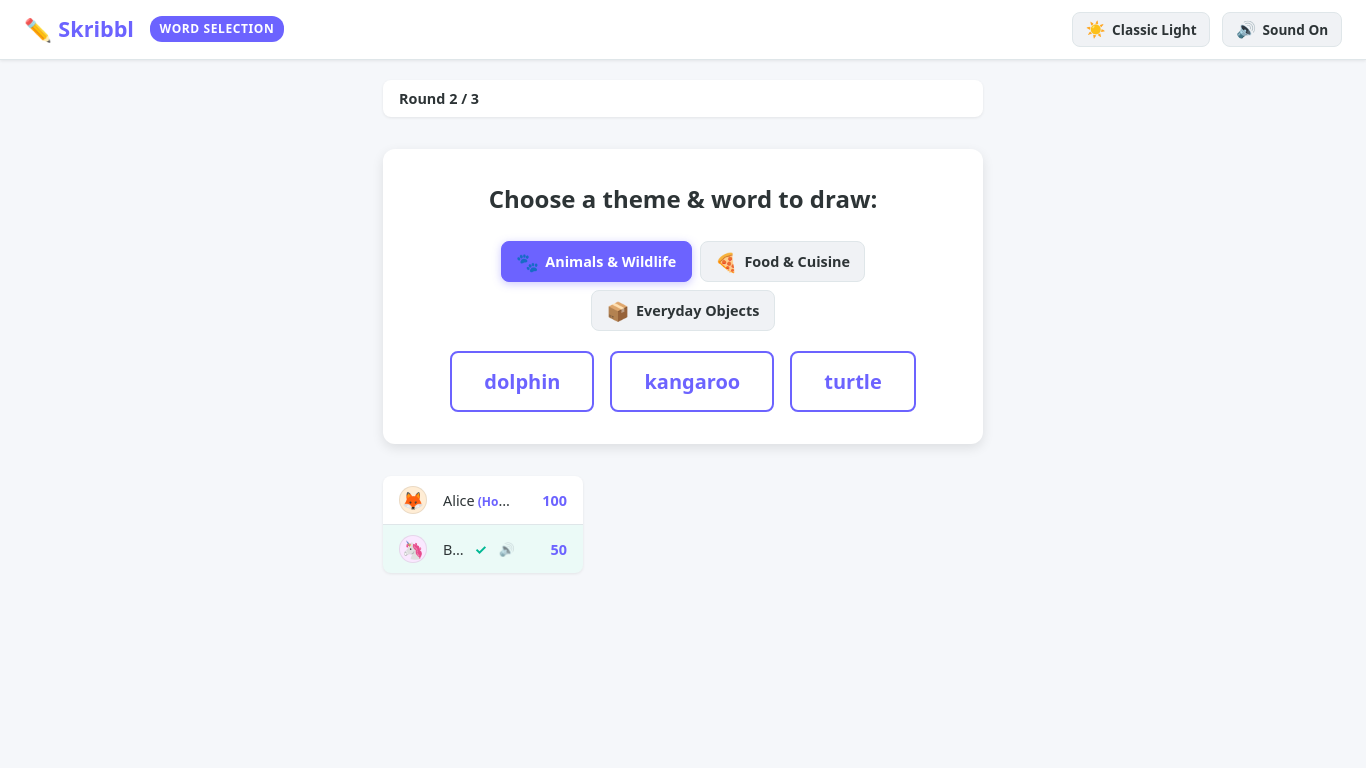
Test case: Game Page › Word pack theme selection for drawer › switches displayed words instantly when another pack tab is clicked
The width and height of the screenshot is (1366, 768).
// Click on food pack tab
Click the button with test id "pack-tab-food". click: (783, 262)
box: top-left (700, 241), bottom-right (866, 282)
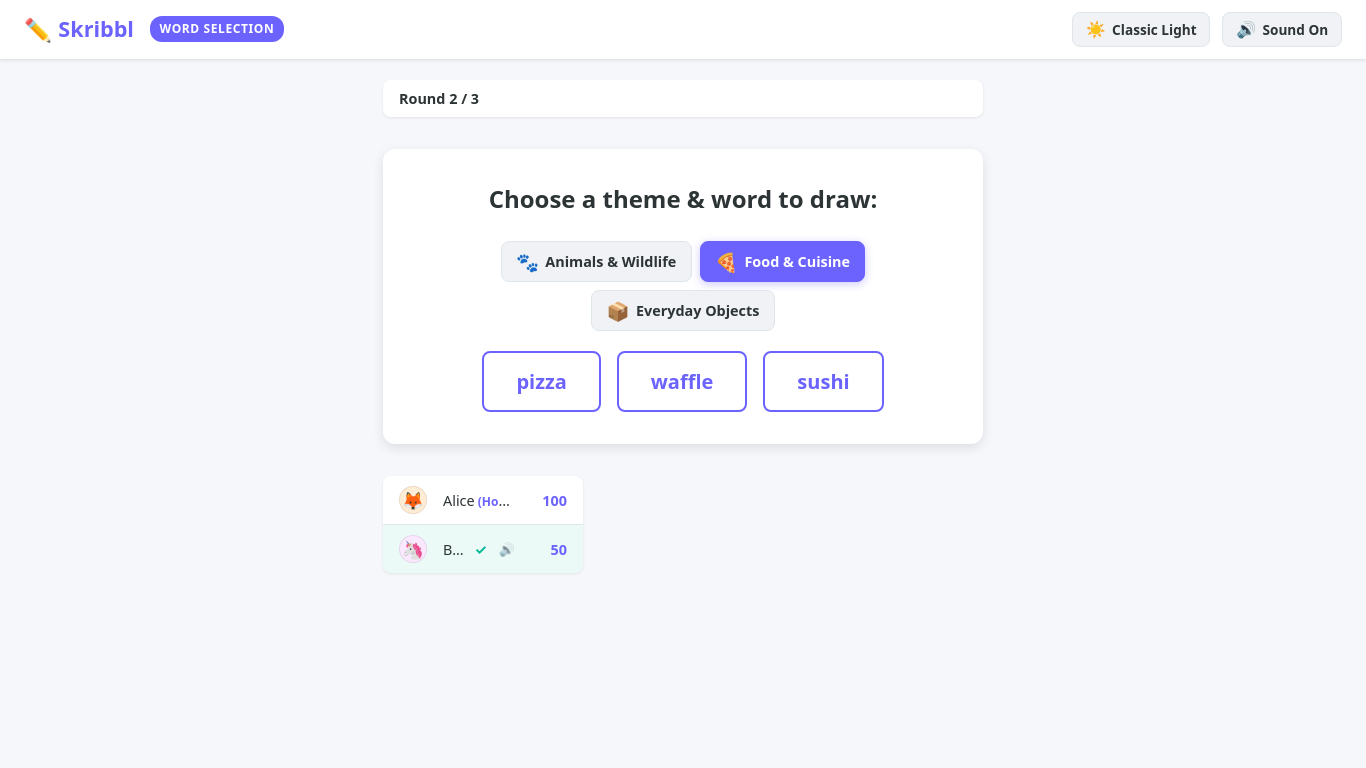
Result: the button "pizza" is shown at top-left (482, 351), bottom-right (601, 412)
Result: the button "waffle" is shown at top-left (617, 351), bottom-right (747, 412)
Result: the button "sushi" is shown at top-left (763, 351), bottom-right (884, 412)
